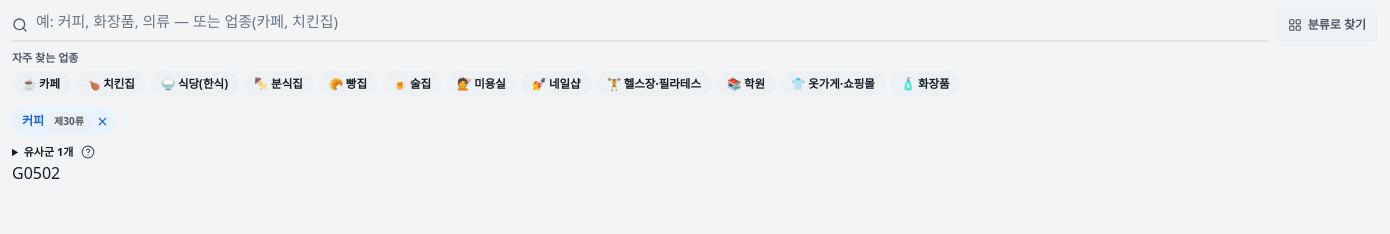
Scenario: GoodsPicker › explains similarity groups on demand
Expected: the text "특허청이 서로 비슷한 상품끼리" is not shown
Click the button named "유사군 설명".
click(88, 152)  # box 79,143 -> 97,161
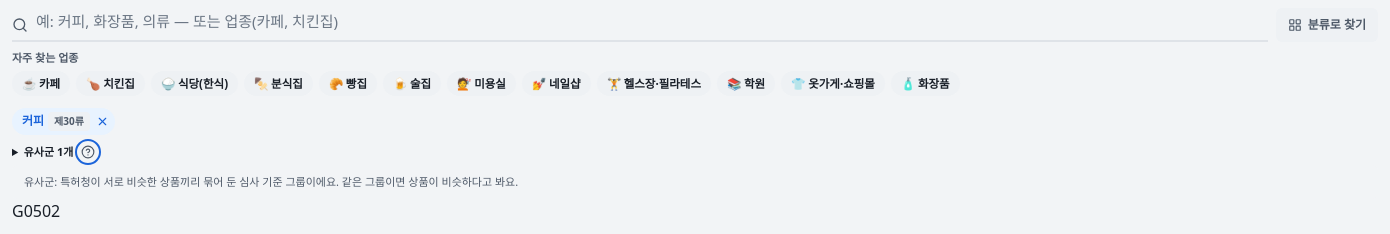
Expected: the button named "유사군 설명" is expanded
Expected: the text "유사군: 특허청이 서로 비슷한 상품끼리 묶어 둔 심사 기준 그룹이에요. 같은 그룹이면 상품이 비슷하다고 봐요." is shown, 12,165 -> 1378,199
Click the button named "유사군 설명".
click(88, 152)  # box 79,143 -> 97,161
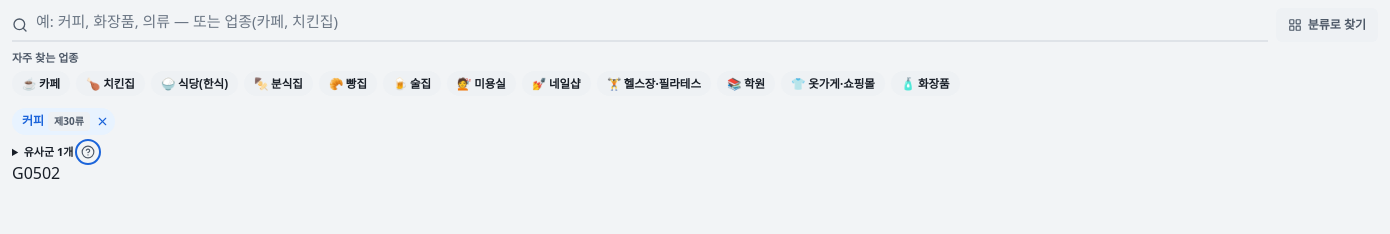
Expected: the text "특허청이 서로 비슷한 상품끼리" is gone
